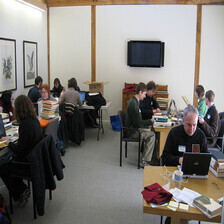laptop: (169, 152, 210, 177), (1, 116, 28, 149), (171, 96, 190, 119), (154, 100, 174, 117)
